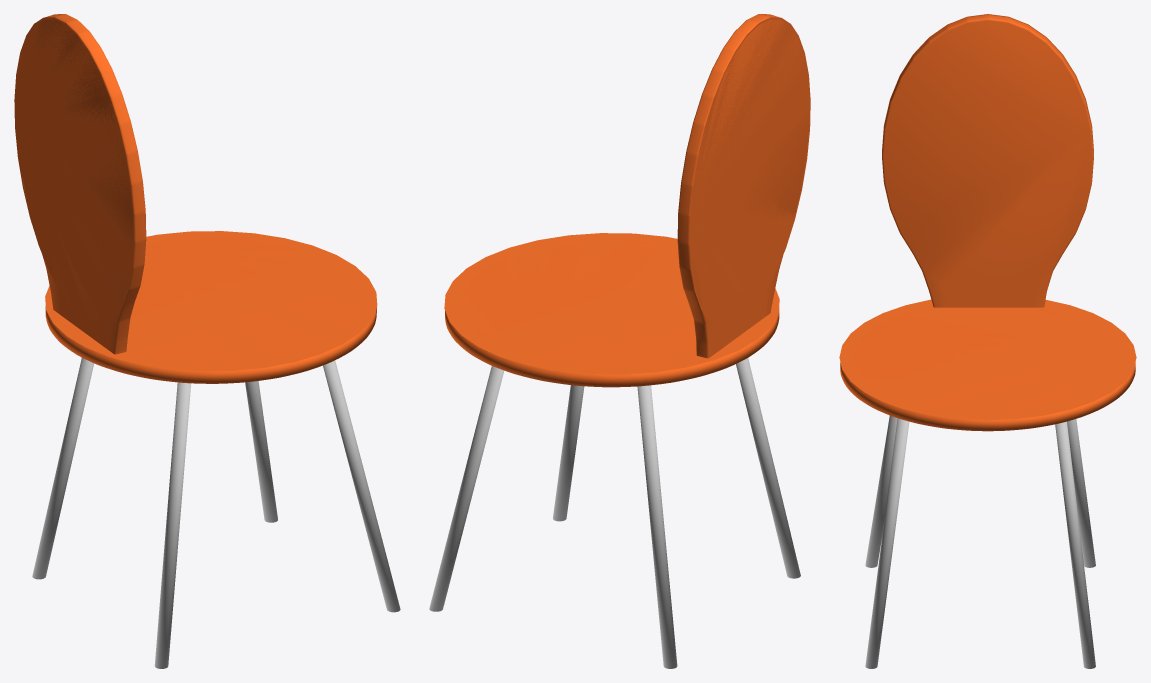
Rendered from chair.fbx.
3 views of the same model, side by side, from view 1: azimuth 30°, elevation 25°; view 2: azimuth 150°, elevation 25°; view 3: azimuth 270°, elevation 25° (orthographic). The views are drawn at different scales.
Parts seen in each view (by area): view 1: chairSeat, chairBack, chairPole1, chairPole2, chairPole3, chairPole4; view 2: chairSeat, chairBack, chairPole3, chairPole4, chairPole1, chairPole2; view 3: chairBack, chairSeat, chairPole2, chairPole4, chairPole1, chairPole3.
Part boxes in pixels (bbox=[...]): chairSeat: bbox=[45, 231, 377, 383]; chairBack: bbox=[14, 14, 146, 354]; chairPole1: bbox=[154, 382, 191, 668]; chairPole2: bbox=[323, 360, 400, 612]; chairPole3: bbox=[32, 358, 94, 579]; chairPole4: bbox=[245, 381, 277, 522]; chairSeat: bbox=[444, 233, 779, 387]; chairBack: bbox=[677, 14, 810, 358]; chairPole3: bbox=[637, 385, 677, 668]; chairPole4: bbox=[429, 366, 504, 611]; chairPole1: bbox=[736, 358, 800, 578]; chairPole2: bbox=[553, 385, 584, 521]; chairBack: bbox=[882, 14, 1093, 307]; chairSeat: bbox=[839, 299, 1136, 431]; chairPole2: bbox=[865, 418, 909, 668]; chairPole4: bbox=[1055, 421, 1095, 668]; chairPole1: bbox=[865, 415, 897, 567]; chairPole3: bbox=[1067, 419, 1095, 567].
Size of the model in its own units: 0.4893 by 0.9735 by 0.487.
